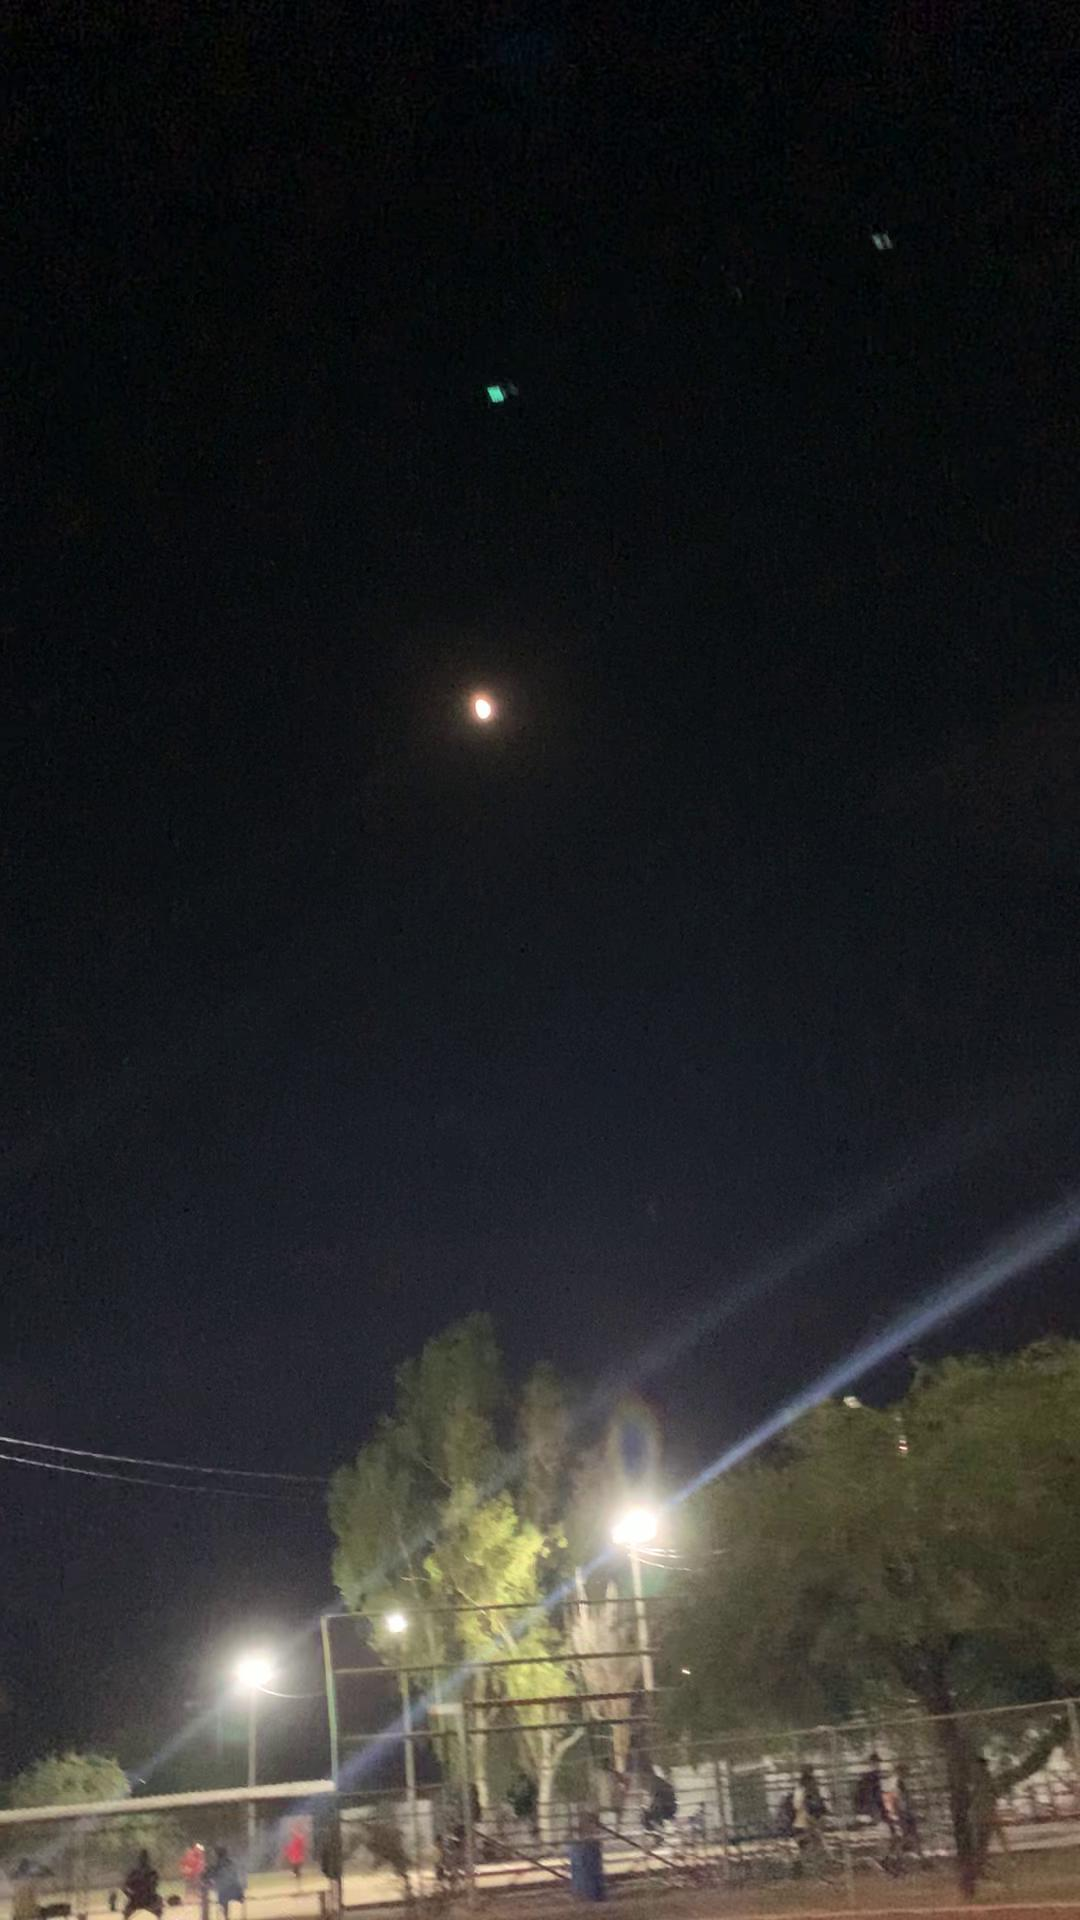moon: (451, 673, 513, 746)
